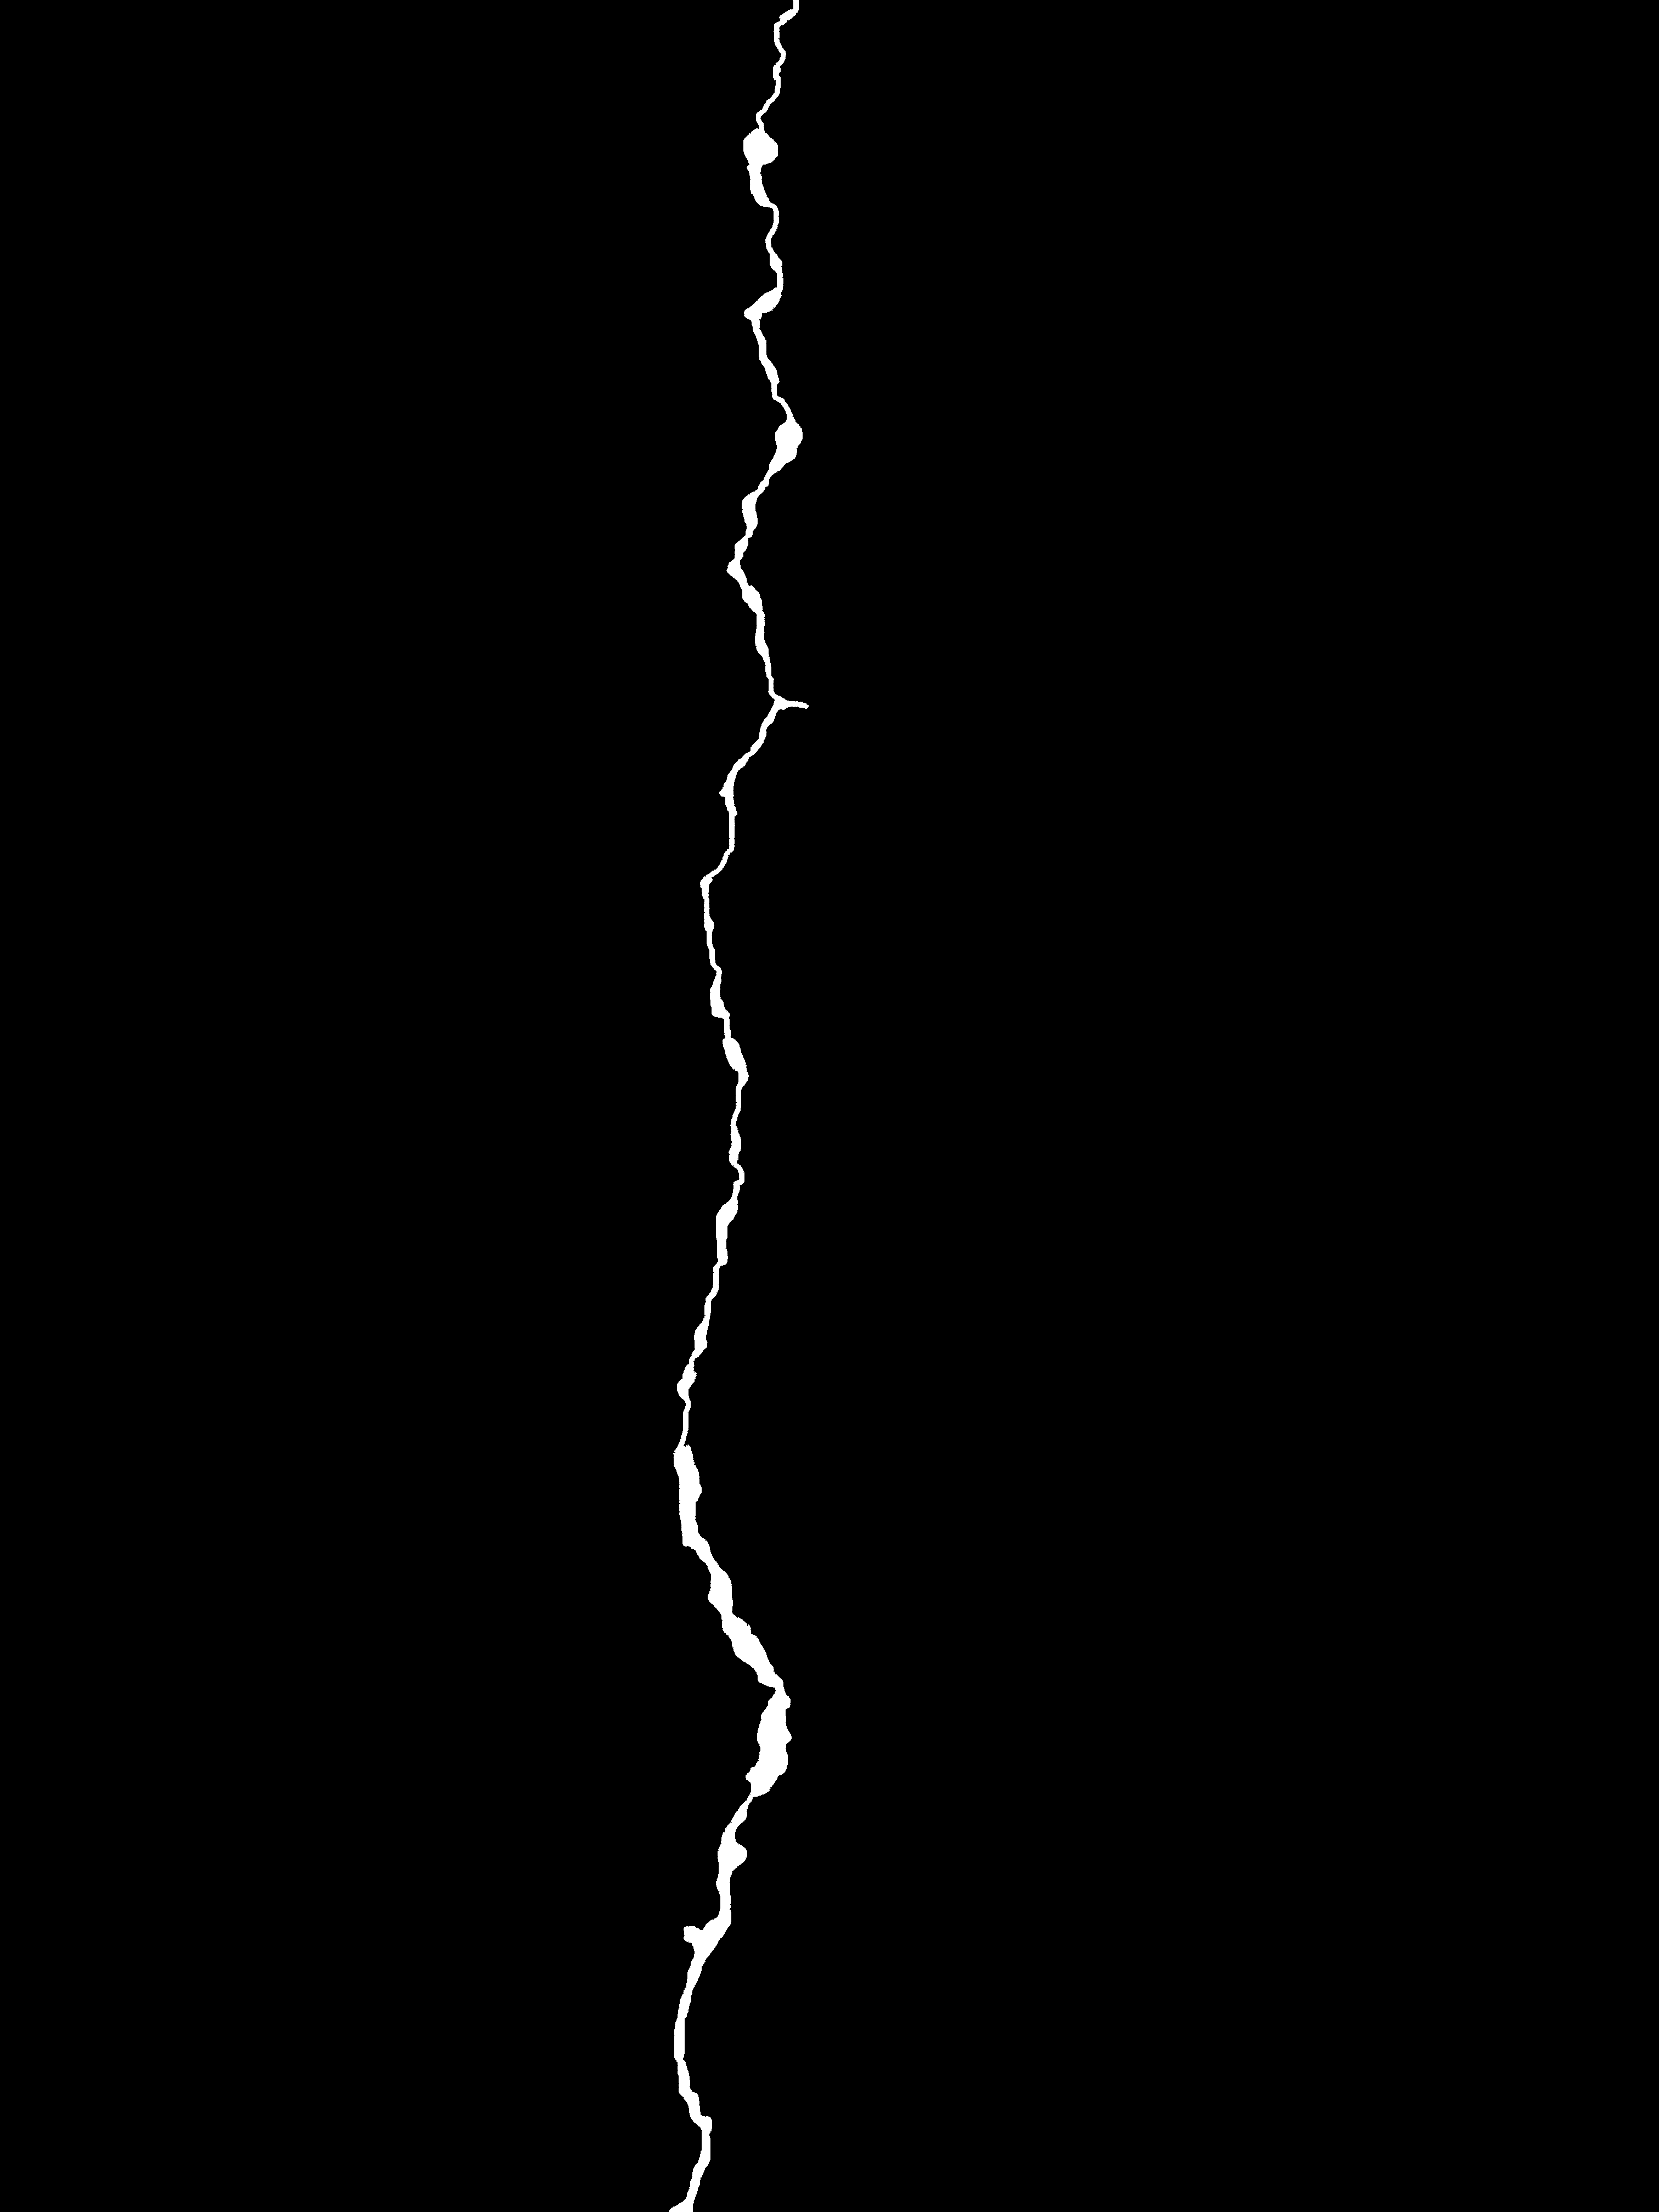Crack: (636, 0, 830, 2212)
